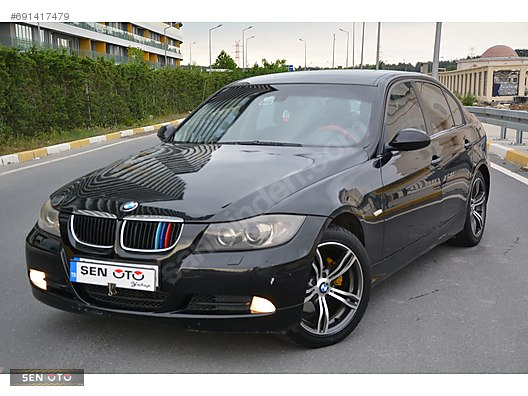bmw: (22, 64, 493, 349)
